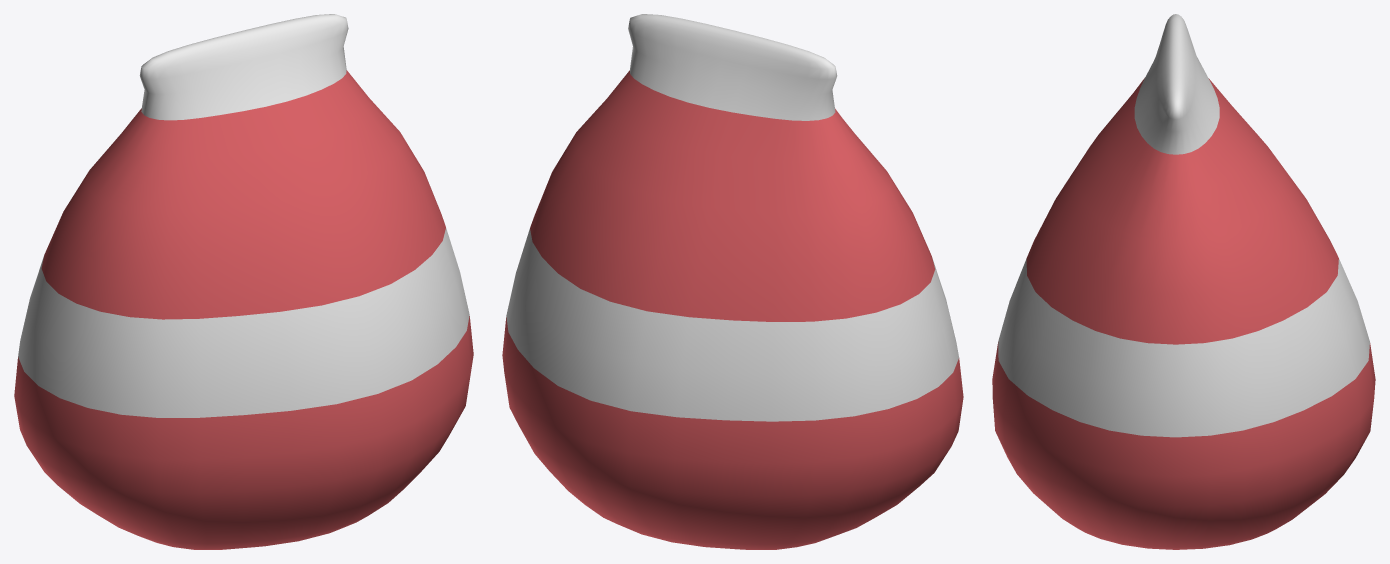
Rendered from redcrisps.fbx.
3 renders of one model, left to right at view 1: azimuth 30°, elevation 25°; view 2: azimuth 150°, elevation 25°; view 3: azimuth 270°, elevation 25°, orthographic. The views are drawn at different scales.
Parts seen in each view (by area): view 1: chips; view 2: chips; view 3: chips.
Boxes of the visible parts, x1,y1,x2,y2 form: chips: (14,14,473,549); chips: (502,14,963,549); chips: (992,14,1375,549).
Size of the model in its own units: 337 by 375 by 281.
